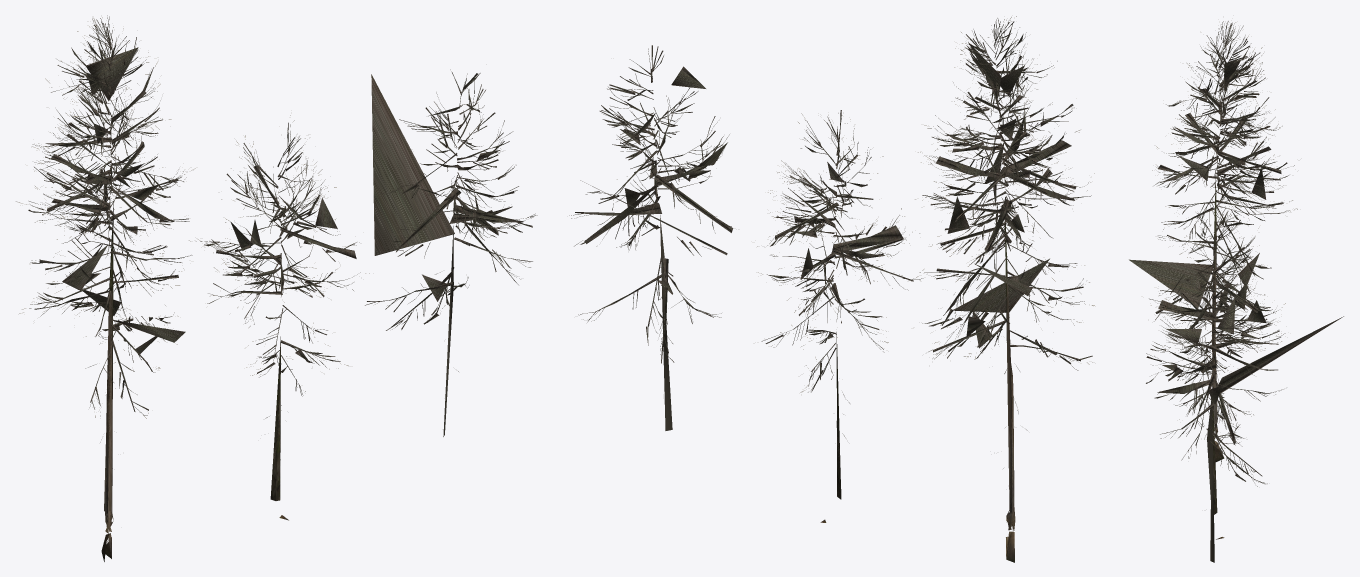
File: fir_tree_01.glb
The picture shows the model from 3 angles, left to right: view 1: azimuth 30°, elevation 25°; view 2: azimuth 150°, elevation 25°; view 3: azimuth 270°, elevation 25°; orthographic projection. The views are drawn at different scales.
Parts seen in each view (by area): view 1: fir_tree_01_a_LOD0; view 2: fir_tree_01_a_LOD0; view 3: fir_tree_01_a_LOD0.
Part boxes in pixels (x1,y1,x2,y2): fir_tree_01_a_LOD0: (16, 15, 537, 561); fir_tree_01_a_LOD0: (569, 16, 1094, 562); fir_tree_01_a_LOD0: (1129, 21, 1343, 562).
Size of the model in its own units: 18.14 by 18.49 by 8.09.
6 materials, 6 textured.
